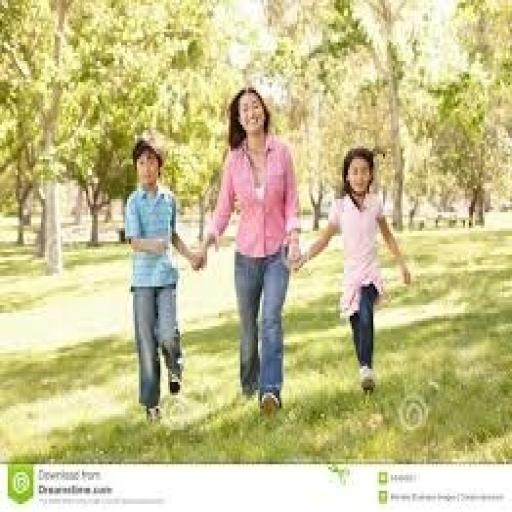running: (191, 85, 303, 419), (288, 144, 412, 396), (121, 128, 205, 424)
